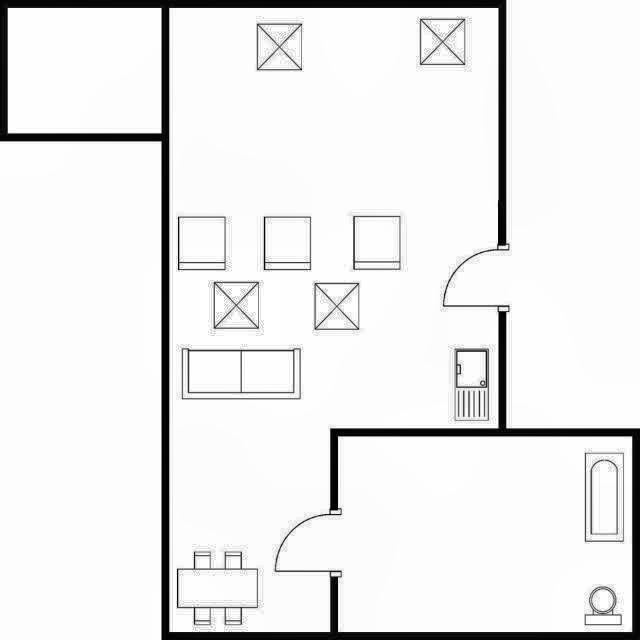room: (169, 8, 499, 632), (338, 436, 632, 632), (8, 8, 162, 134)
